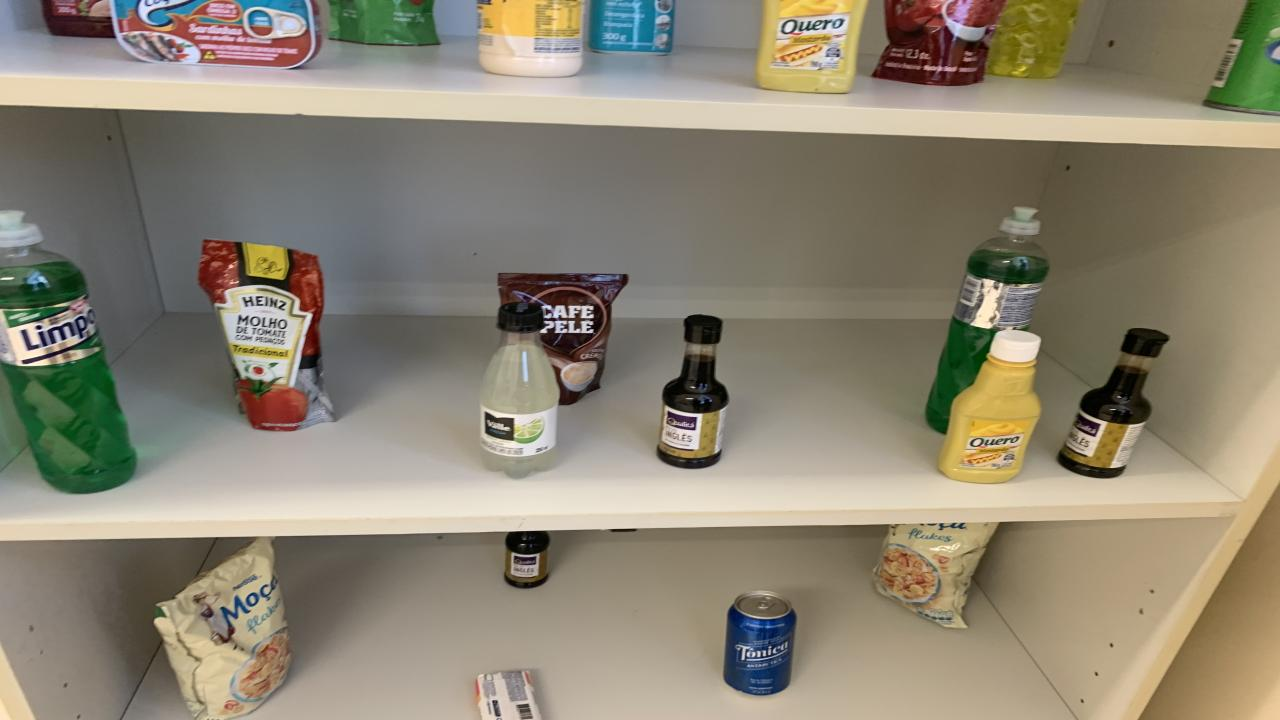Cleaner-Cleanup_Items: (588, 0, 675, 54)
Coffee-Pantry_Items: (498, 274, 628, 405)
Detergent-Cleanup_Items: (0, 212, 138, 493), (925, 208, 1050, 431), (988, 0, 1082, 79)
English_Sauce-Pantry_Items: (1058, 328, 1168, 478), (658, 315, 730, 469), (505, 531, 550, 589)
Flakes-Snacks: (155, 536, 290, 718), (872, 523, 998, 628)
Ketchup-Pantry_Items: (42, 0, 115, 38)
Mayonnaise-Pantry_Items: (478, 0, 582, 77)
Mustard-Pantry_Items: (938, 330, 1042, 484), (755, 0, 868, 94)
Pringles-Snacks: (1205, 0, 1280, 114)
Soap-Cleanup_Items: (475, 669, 542, 720)
Soda-Drinks: (480, 302, 560, 478)
Tomato_Sauce-Pantry_Items: (200, 240, 335, 431), (872, 0, 1005, 86), (330, 0, 440, 45)
Tonic-Drinks: (722, 591, 795, 696)
Tuna_Can-Pantry_Items: (110, 0, 320, 69)
